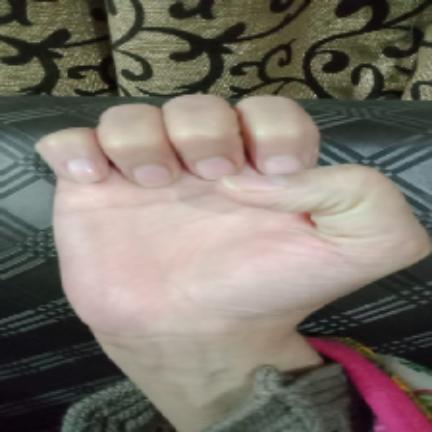Nail: (195, 156, 235, 180), (220, 176, 287, 190), (134, 164, 171, 188), (67, 157, 101, 183), (264, 155, 300, 174)
